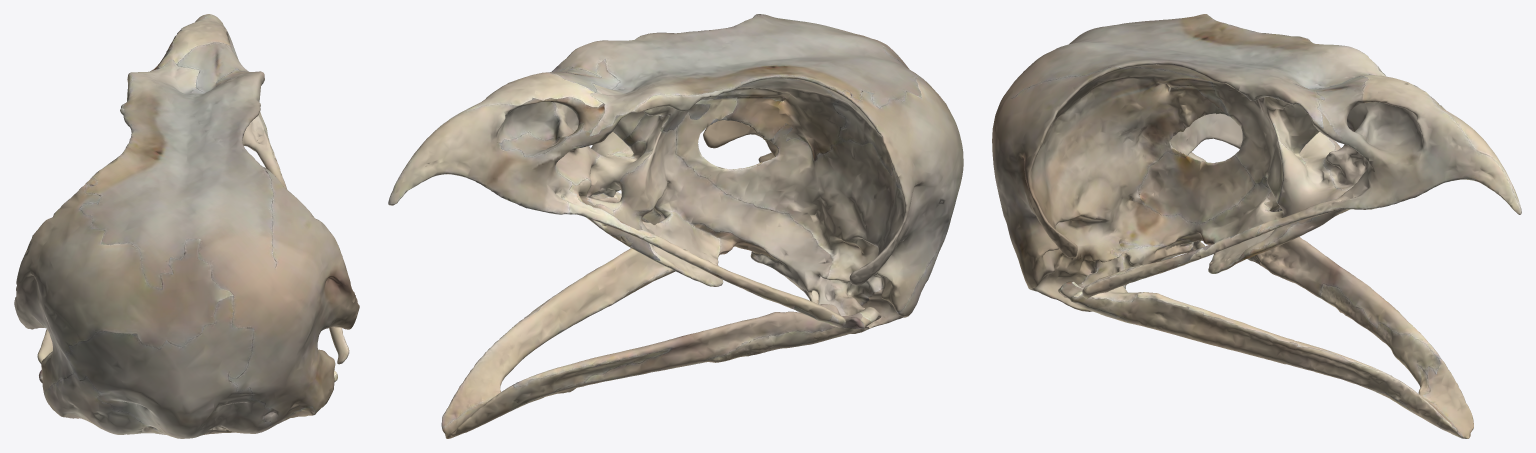
The model's file is milano.glb.
3 views of the same model, side by side, from view 1: azimuth 30°, elevation 25°; view 2: azimuth 150°, elevation 25°; view 3: azimuth 270°, elevation 25° (orthographic). The views are drawn at different scales.
Visible parts, largest first — view 1: Object_2; view 2: Object_2; view 3: Object_2.
Boxes of the visible parts, x1,y1,x2,y2 form: Object_2: (14, 14, 359, 438); Object_2: (388, 14, 963, 438); Object_2: (992, 14, 1521, 438).
Bounding box in the file's own units: 0.4852 × 0.4284 × 0.6234.
Materials: 1 (1 with a texture image).
